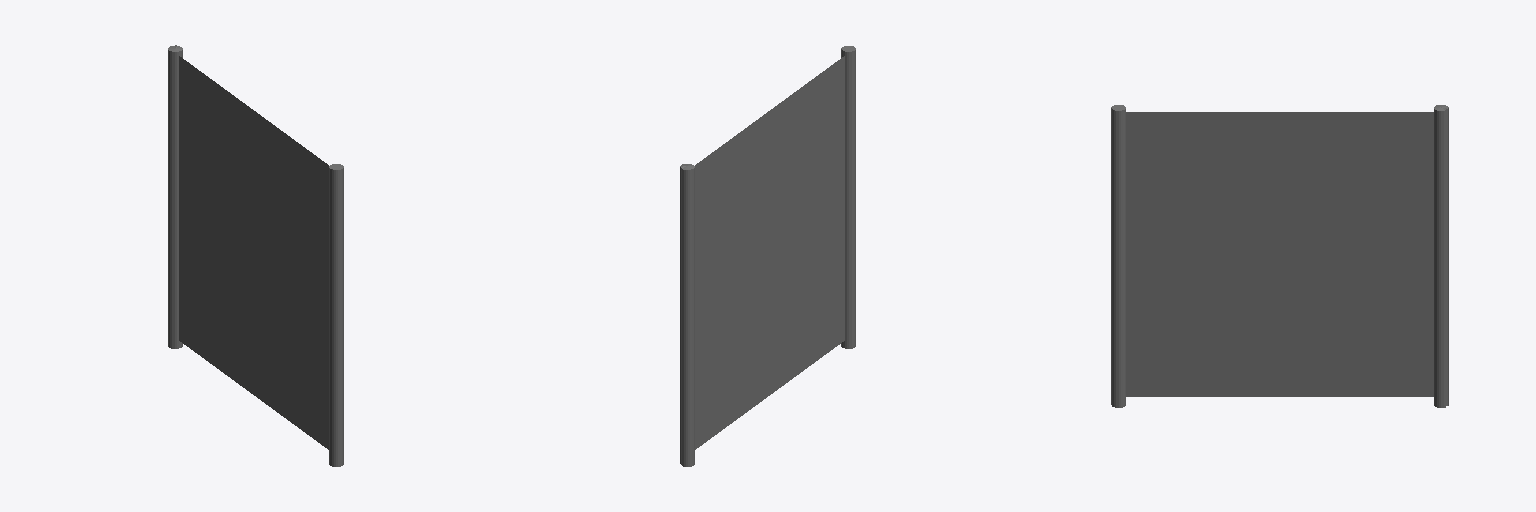
The model's file is hekjefull.obj.
The picture shows the model from 3 angles: view 1: azimuth 30°, elevation 25°; view 2: azimuth 150°, elevation 25°; view 3: azimuth 270°, elevation 25°; orthographic projection.
Parts seen in each view (by area): view 1: polySurface33; view 2: polySurface33; view 3: polySurface33.
Part boxes in pixels (x1,y1,x2,y2): polySurface33: (168,45,343,466); polySurface33: (680,46,855,466); polySurface33: (1111,105,1448,407).
Bounding box in the file's own units: 0.3291 × 7.22 × 7.41.